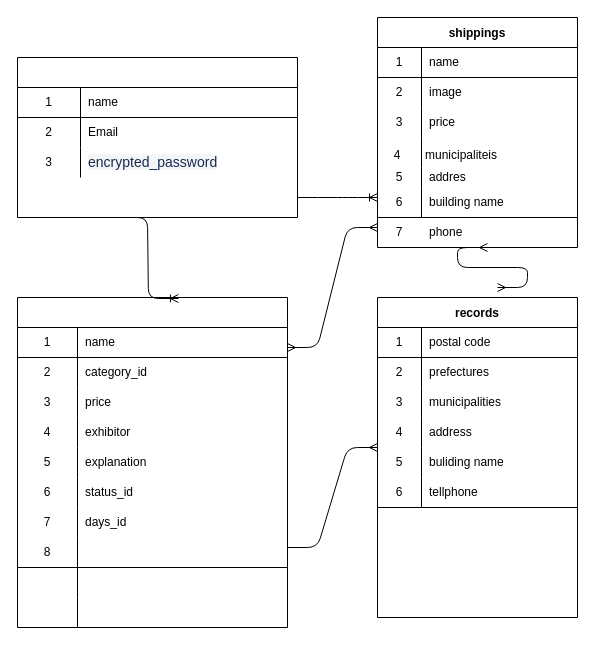
The diagram is 595 pixels wide and 645 high, and some of its shapes have lost their labels. The box of each missing label's shape, as (x1, y1, x2, y2) in pixels:
items: (16, 296, 288, 628)
users: (16, 56, 298, 218)
